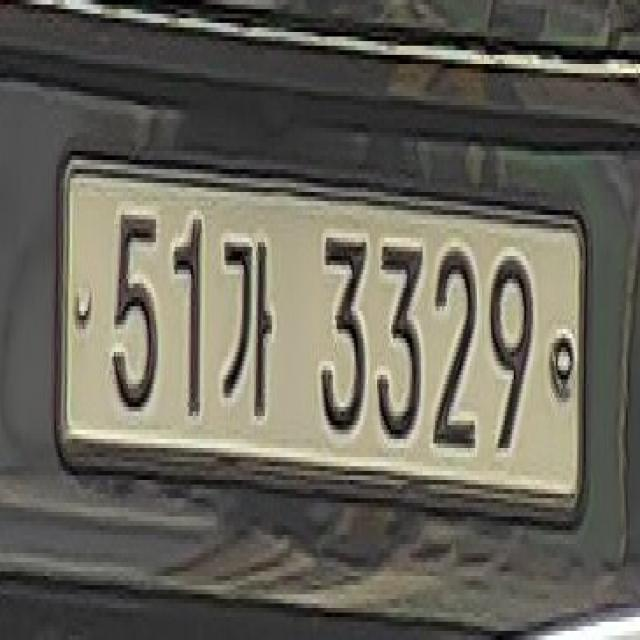1: (168, 207, 206, 436)
2: (434, 233, 478, 463)
3: (374, 227, 428, 448), (316, 226, 369, 444)
5: (111, 200, 162, 428)
9: (484, 245, 534, 474)
ga: (220, 216, 280, 433)
license_plate: (55, 157, 591, 524)
